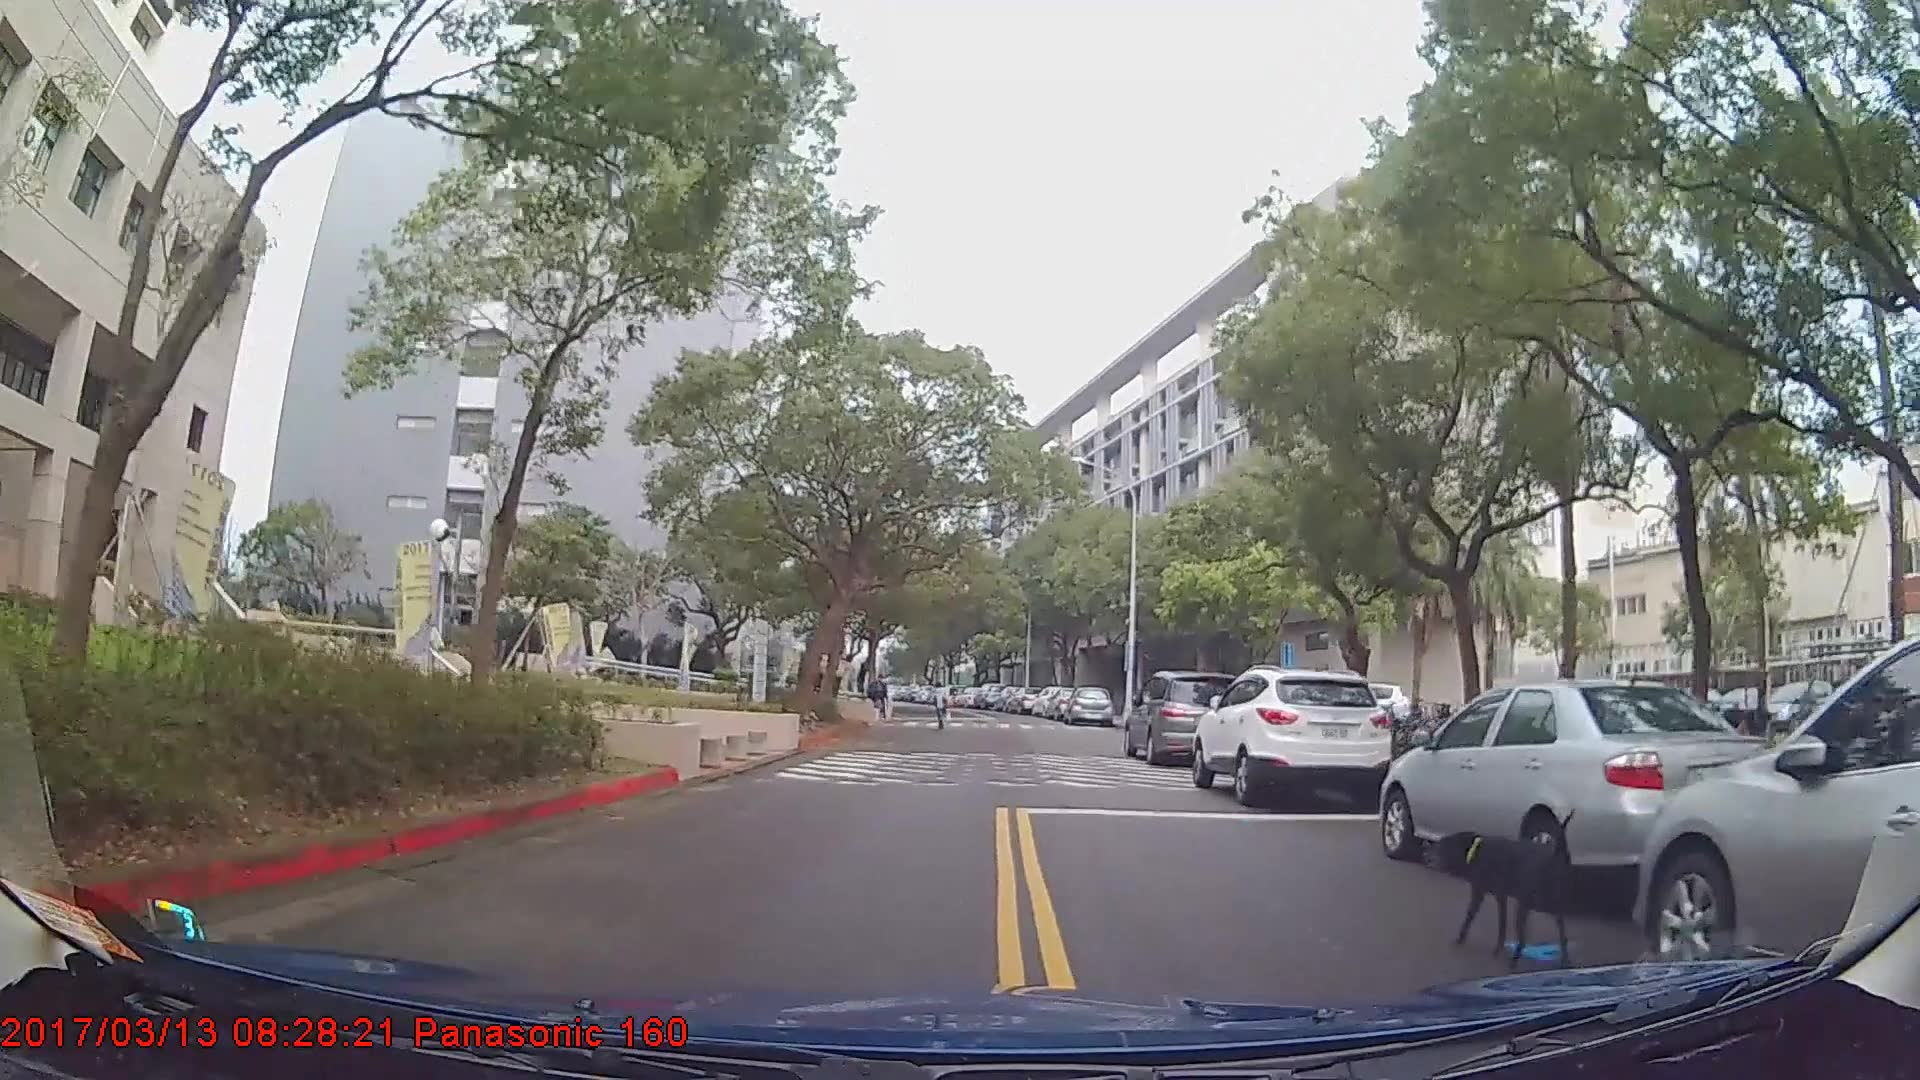pedestrian: (927, 682, 952, 732), (868, 674, 891, 722)
vehicle: (1634, 639, 1919, 994), (1376, 677, 1780, 896), (1190, 665, 1396, 810), (1123, 670, 1252, 763), (1064, 681, 1111, 725), (974, 681, 1006, 710)
